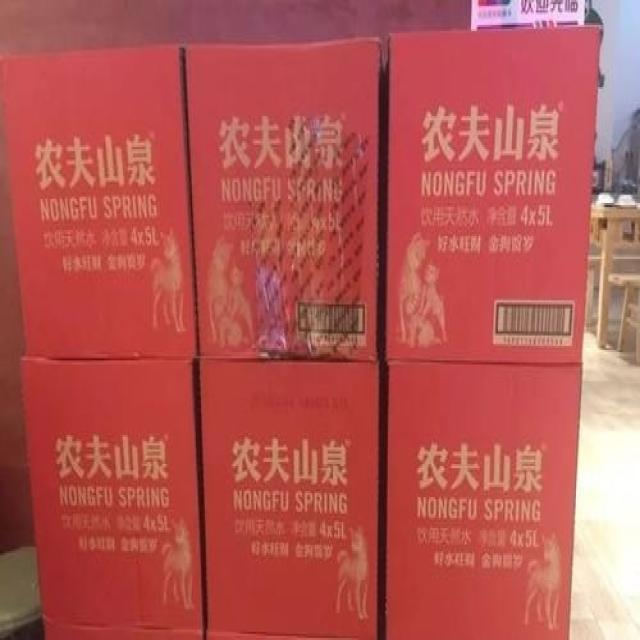box: (383, 23, 603, 365), (183, 37, 383, 360), (0, 43, 200, 360), (380, 360, 585, 640), (18, 356, 206, 630), (197, 360, 381, 638), (41, 621, 204, 640), (205, 628, 380, 640)
